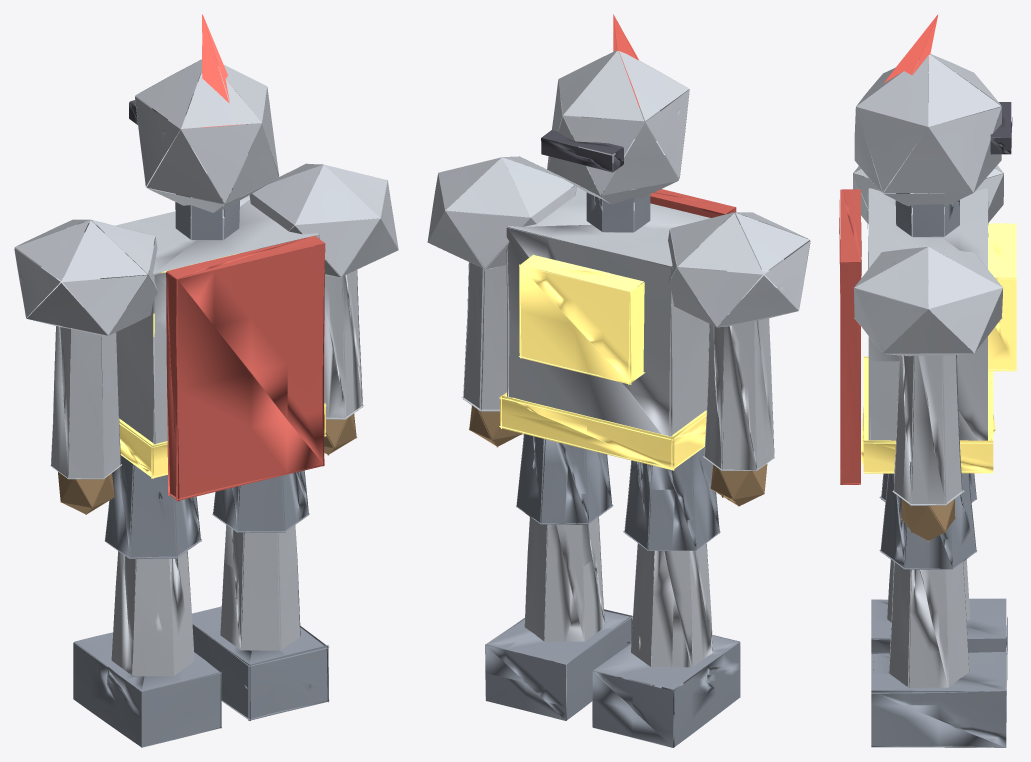
The model's file is knight.glb.
3 renders of one model, left to right at view 1: azimuth 30°, elevation 25°; view 2: azimuth 150°, elevation 25°; view 3: azimuth 270°, elevation 25°, orthographic.
Visible parts, largest first — view 1: KnightTorso; view 2: KnightTorso; view 3: KnightTorso.
Part boxes in pixels (box(x1,y1,x2,y2)): KnightTorso: box(14, 14, 398, 747); KnightTorso: box(427, 14, 810, 747); KnightTorso: box(839, 14, 1016, 747).
Size of the model in its own units: 1.61 by 2.93 by 0.6834.
